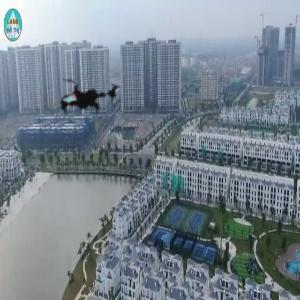drone: (41, 45, 138, 142)
